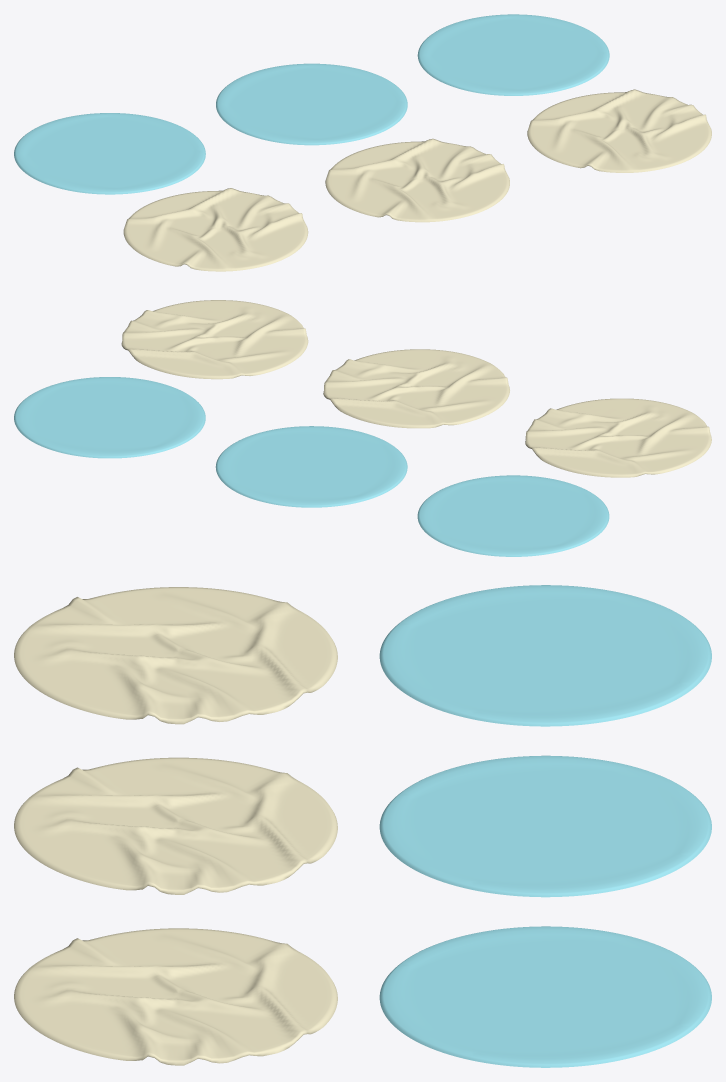
The model's file is Round_Rug_OBJ.glb.
The picture shows the model from 3 angles, top to bottom: view 1: azimuth 30°, elevation 25°; view 2: azimuth 150°, elevation 25°; view 3: azimuth 270°, elevation 25°; orthographic projection. The views are drawn at different scales.
Parts seen in each view (by area): view 1: Rug_2_1_V_Ray_Displacement, Rug_3_1_V_Ray_Displacement, Rug_1_1_V_Ray_Displacement, Rug_1_2_V_Ray_Displacement, Rug_2_2_V_Ray_Displacement, Rug_3_2_V_Ray_Displacement; view 2: Rug_1_1_V_Ray_Displacement, Rug_2_1_V_Ray_Displacement, Rug_3_1_V_Ray_Displacement, Rug_1_2_V_Ray_Displacement, Rug_2_2_V_Ray_Displacement, Rug_3_2_V_Ray_Displacement; view 3: Rug_1_1_V_Ray_Displacement, Rug_3_1_V_Ray_Displacement, Rug_2_1_V_Ray_Displacement, Rug_2_2_V_Ray_Displacement, Rug_3_2_V_Ray_Displacement, Rug_1_2_V_Ray_Displacement.
Boxes of the visible parts, box(x1,y1,x2,y2) form: Rug_2_1_V_Ray_Displacement: box(216, 63, 407, 145); Rug_3_1_V_Ray_Displacement: box(417, 14, 609, 95); Rug_1_1_V_Ray_Displacement: box(14, 113, 205, 194); Rug_1_2_V_Ray_Displacement: box(123, 188, 308, 271); Rug_2_2_V_Ray_Displacement: box(325, 138, 509, 222); Rug_3_2_V_Ray_Displacement: box(527, 89, 711, 172); Rug_1_1_V_Ray_Displacement: box(417, 475, 609, 556); Rug_2_1_V_Ray_Displacement: box(215, 426, 407, 507); Rug_3_1_V_Ray_Displacement: box(14, 377, 205, 458); Rug_1_2_V_Ray_Displacement: box(525, 398, 711, 477); Rug_2_2_V_Ray_Displacement: box(323, 349, 509, 428); Rug_3_2_V_Ray_Displacement: box(121, 300, 308, 379); Rug_1_1_V_Ray_Displacement: box(379, 585, 711, 726); Rug_3_1_V_Ray_Displacement: box(379, 926, 711, 1067); Rug_2_1_V_Ray_Displacement: box(379, 755, 711, 897); Rug_2_2_V_Ray_Displacement: box(14, 757, 337, 894); Rug_3_2_V_Ray_Displacement: box(14, 928, 337, 1065); Rug_1_2_V_Ray_Displacement: box(14, 587, 337, 724).
Size of the model in its own units: 413 by 3.98 by 253.
